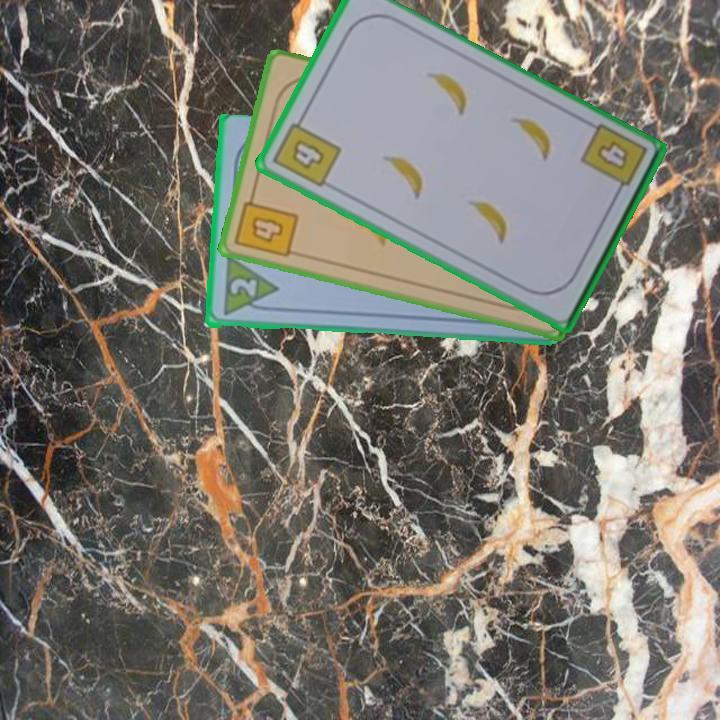2p: (219, 255, 280, 319)
4b: (269, 111, 344, 191), (577, 120, 650, 201), (231, 188, 301, 261)
